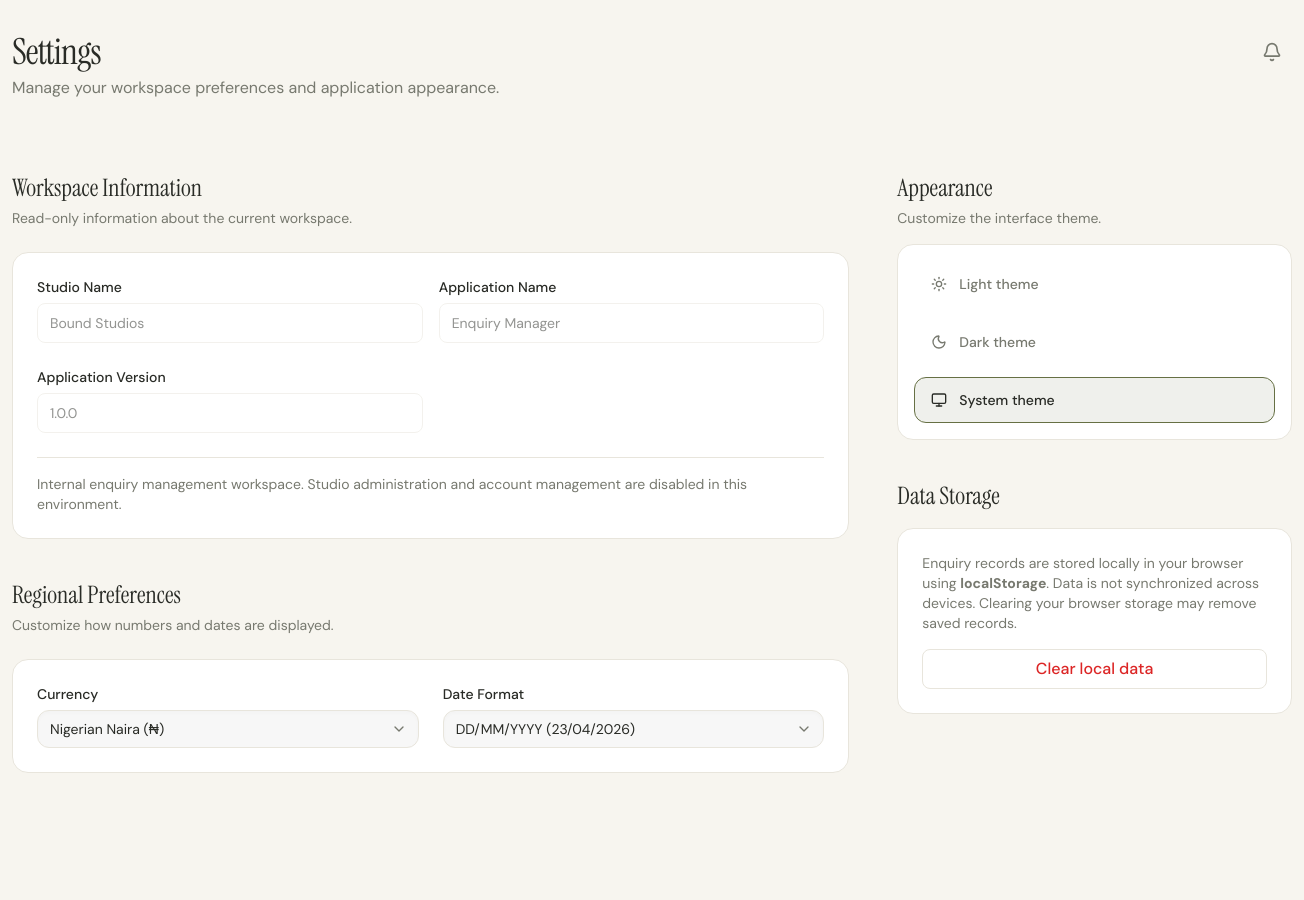
Settings page › changes date format and saves the preference
The image size is (1304, 900).
// Simulate user interaction with the date format dropdown
Select "YYYY-MM-DD (2026-04-23)" in the dropdown below "Date Format" at (634, 729), box [443,710,824,748]
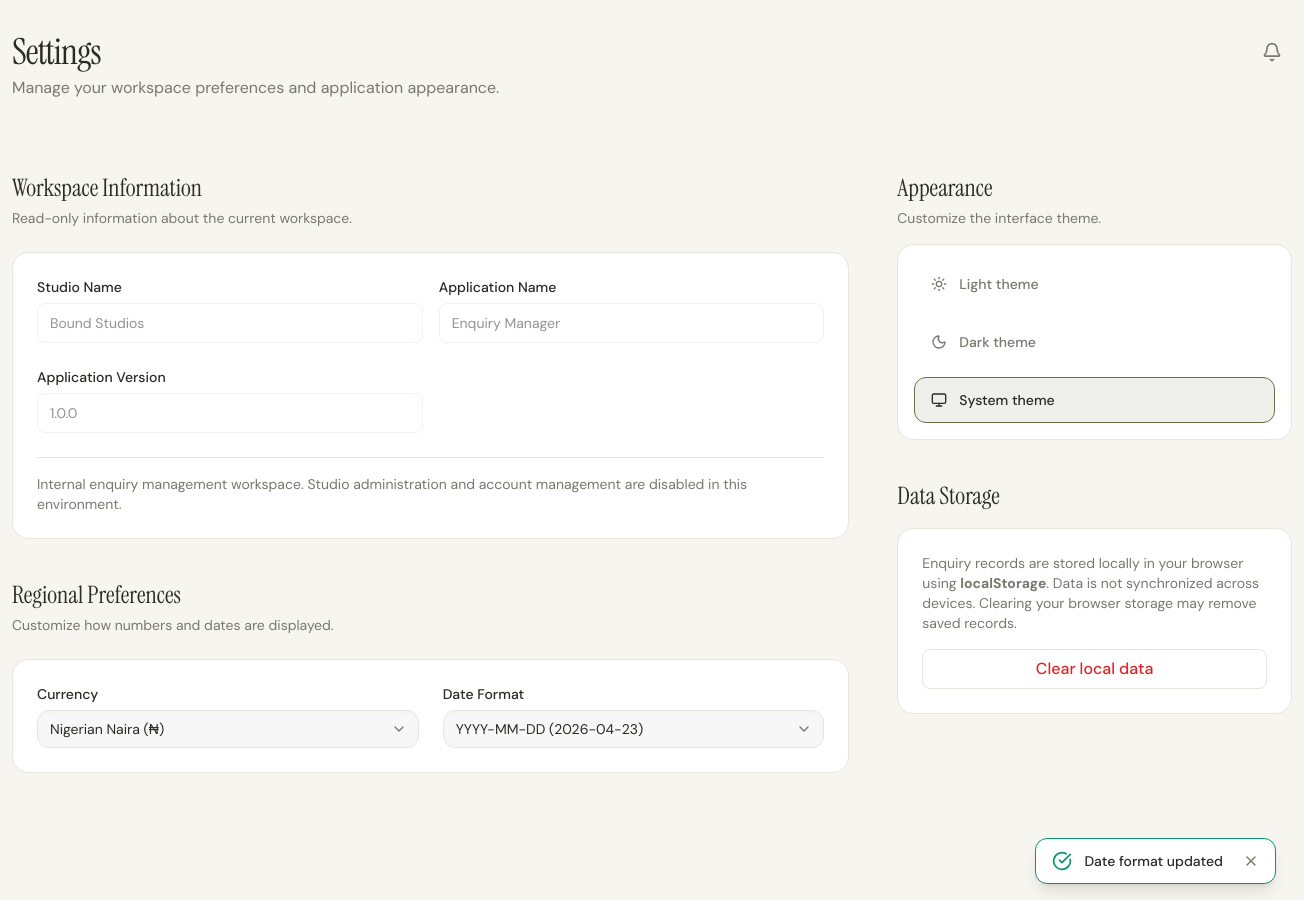
Check: the text "Date format updated" is shown, box [1084,851,1223,871]
